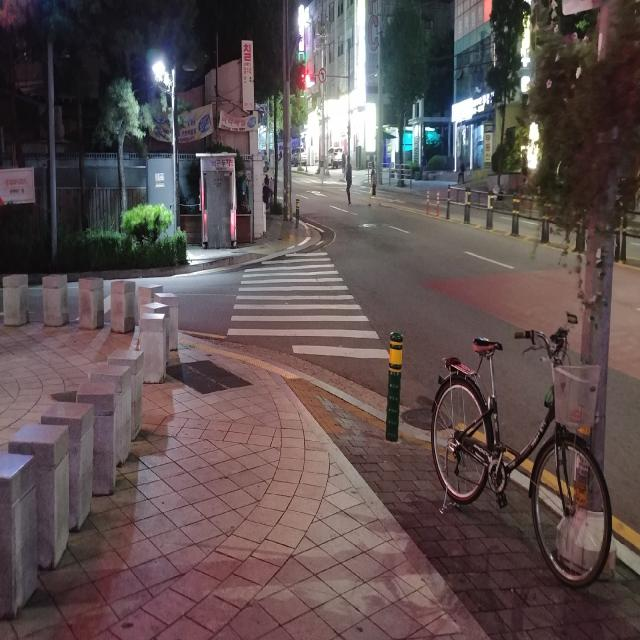횡단보도: (227, 250, 392, 361)
